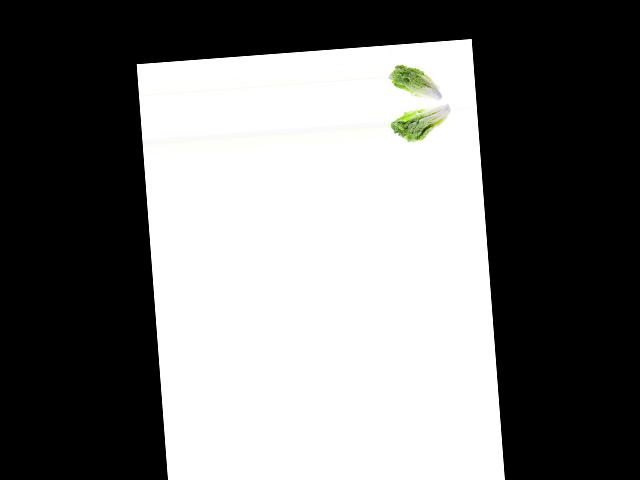lettuce: (388, 60, 448, 104)
